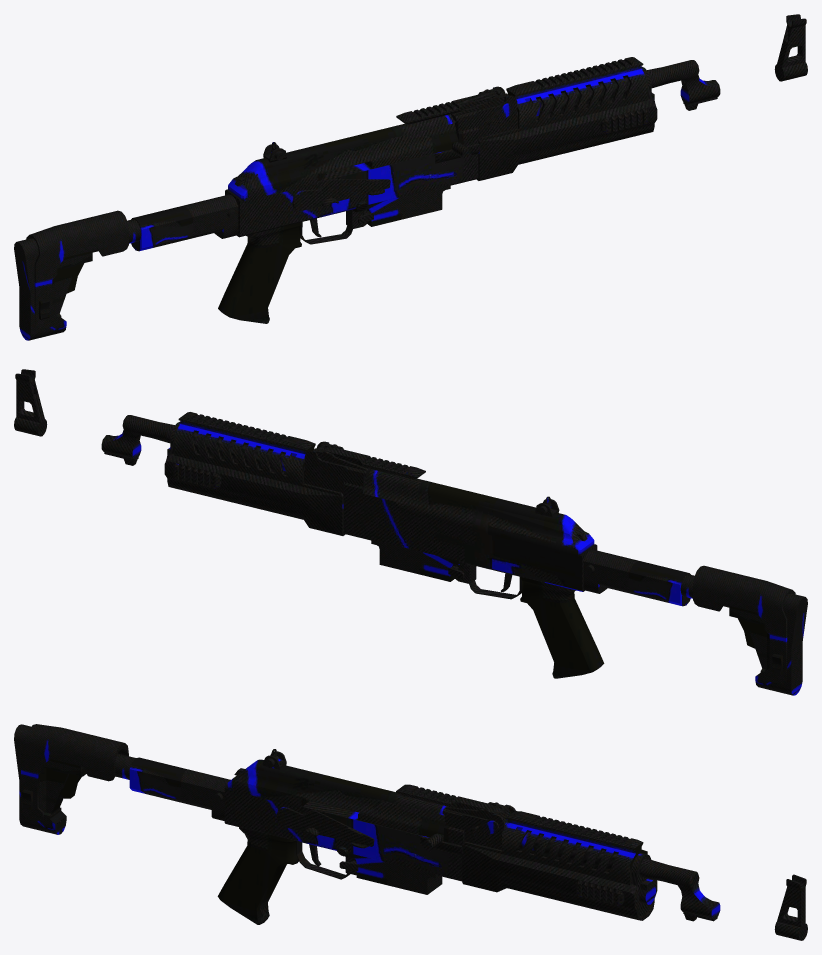
Rendered from assaultriflemk2_ab.glb.
3 views of the same model, one above another, from view 1: azimuth 30°, elevation 25°; view 2: azimuth 150°, elevation 25°; view 3: azimuth 330°, elevation 25° (orthographic).
Visible parts, largest first — view 1: Gun_Root; view 2: Gun_Root; view 3: Gun_Root.
Boxes of the visible parts, x1,y1,x2,y2 form: Gun_Root: (14,14,807,340); Gun_Root: (14,369,807,695); Gun_Root: (14,724,807,940).
Size of the model in its own units: 0.873 by 0.1873 by 0.0659.
2 materials, 2 textured.
